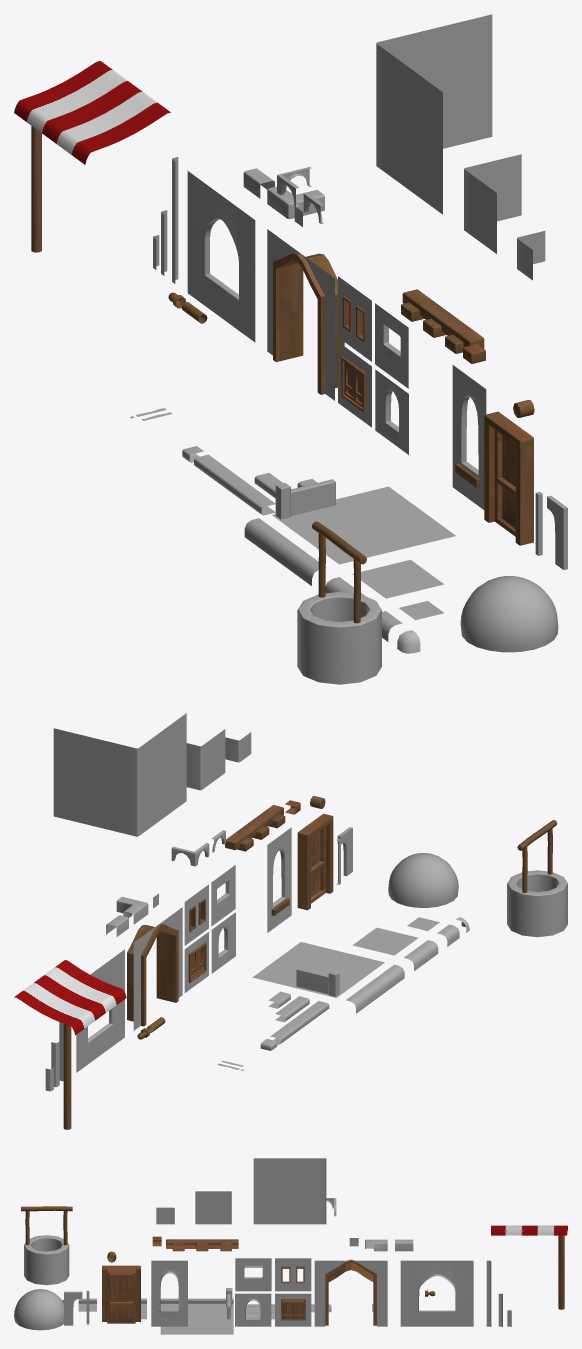
Rendered from ModularAssets2.fbx.
3 renders of one model, top to bottom at view 1: azimuth 30°, elevation 25°; view 2: azimuth 150°, elevation 25°; view 3: azimuth 270°, elevation 25°, orthographic. The views are drawn at different scales.
Parts seen in each view (by area): view 1: CorneredWallx8, WellWater, CanopyCloth, Door_BIG, Window_Big, Floor_8x8, RoofOrnament, Door_Small, CorneredWallx4, Window_Medium, WoodenBeams, Window_Small4 (+12 smaller); view 2: CorneredWallx8, WellWater, CanopyCloth, Door_BIG, Floor_8x8, RoofOrnament, Door_Small, Window_Big, CorneredWallx4, Window_Medium, WoodenBeams, Window_Small3 (+11 smaller); view 3: CorneredWallx8, Window_Big, Door_BIG, WellWater, Door_Small, Window_Medium, Floor_8x8, RoofOrnament, CorneredWallx4, Window_Small4, Window_Small3, Window_Small2 (+10 smaller).
Boxes of the visible parts, box(x1,y1,x2,y2) form: CorneredWallx8: box(376, 14, 492, 214); WellWater: box(297, 521, 381, 684); CanopyCloth: box(14, 61, 170, 164); Door_BIG: box(267, 229, 344, 400); Window_Big: box(187, 171, 255, 342); Floor_8x8: box(272, 486, 455, 564); RoofOrnament: box(460, 576, 558, 652); Door_Small: box(484, 411, 533, 545); CorneredWallx4: box(464, 154, 521, 253); Window_Medium: box(452, 365, 486, 509); WoodenBeams: box(401, 289, 484, 353); Window_Small4: box(338, 342, 371, 427); CorneredWallx8: box(53, 713, 186, 836); WellWater: box(507, 820, 567, 937); CanopyCloth: box(14, 960, 126, 1035); Door_BIG: box(127, 907, 182, 1030); Floor_8x8: box(252, 942, 384, 997); RoofOrnament: box(388, 853, 458, 907); Door_Small: box(297, 813, 333, 910); Window_Big: box(76, 949, 124, 1072); CorneredWallx4: box(186, 729, 225, 790); Window_Medium: box(267, 827, 291, 932); WoodenBeams: box(225, 805, 285, 851); Window_Small3: box(184, 884, 208, 945); CorneredWallx8: box(253, 1158, 326, 1224); Window_Big: box(400, 1260, 473, 1326); Door_BIG: box(314, 1259, 387, 1326); WellWater: box(21, 1206, 72, 1285); Door_Small: box(102, 1265, 140, 1323); Window_Medium: box(151, 1260, 187, 1326); Floor_8x8: box(160, 1304, 233, 1334); RoofOrnament: box(14, 1289, 63, 1330); CorneredWallx4: box(195, 1191, 231, 1224); Window_Small4: box(275, 1293, 311, 1326); Window_Small3: box(275, 1258, 311, 1291); Window_Small2: box(235, 1258, 271, 1291).
Size of the model in its own units: 9.2 by 7.41 by 18.25.
